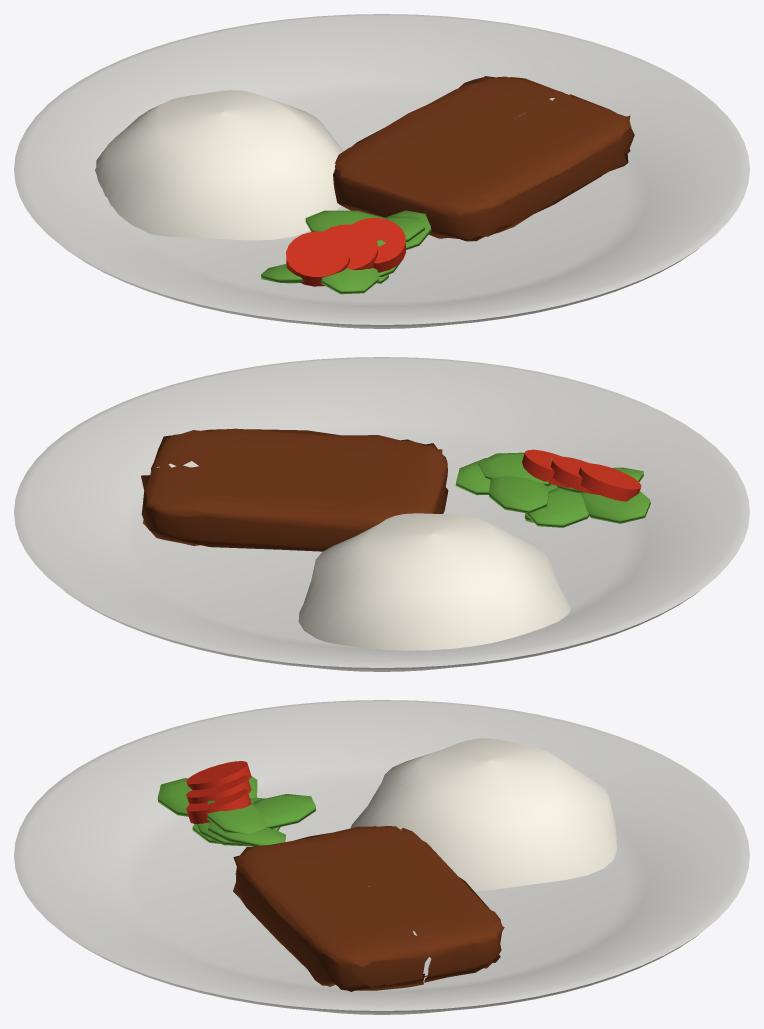
The model's file is prato-carne.glb.
3 renders of one model, top to bottom at view 1: azimuth 30°, elevation 25°; view 2: azimuth 150°, elevation 25°; view 3: azimuth 270°, elevation 25°, orthographic.
Parts seen in each view (by area): view 1: prato-carne; view 2: prato-carne; view 3: prato-carne.
Boxes of the visible parts, left/top/right/bottom form: prato-carne: left=14, top=14, right=749, bottom=328; prato-carne: left=14, top=357, right=749, bottom=671; prato-carne: left=14, top=700, right=749, bottom=1014.
Bounding box in the file's own units: 0.274 × 0.042 × 0.274.
